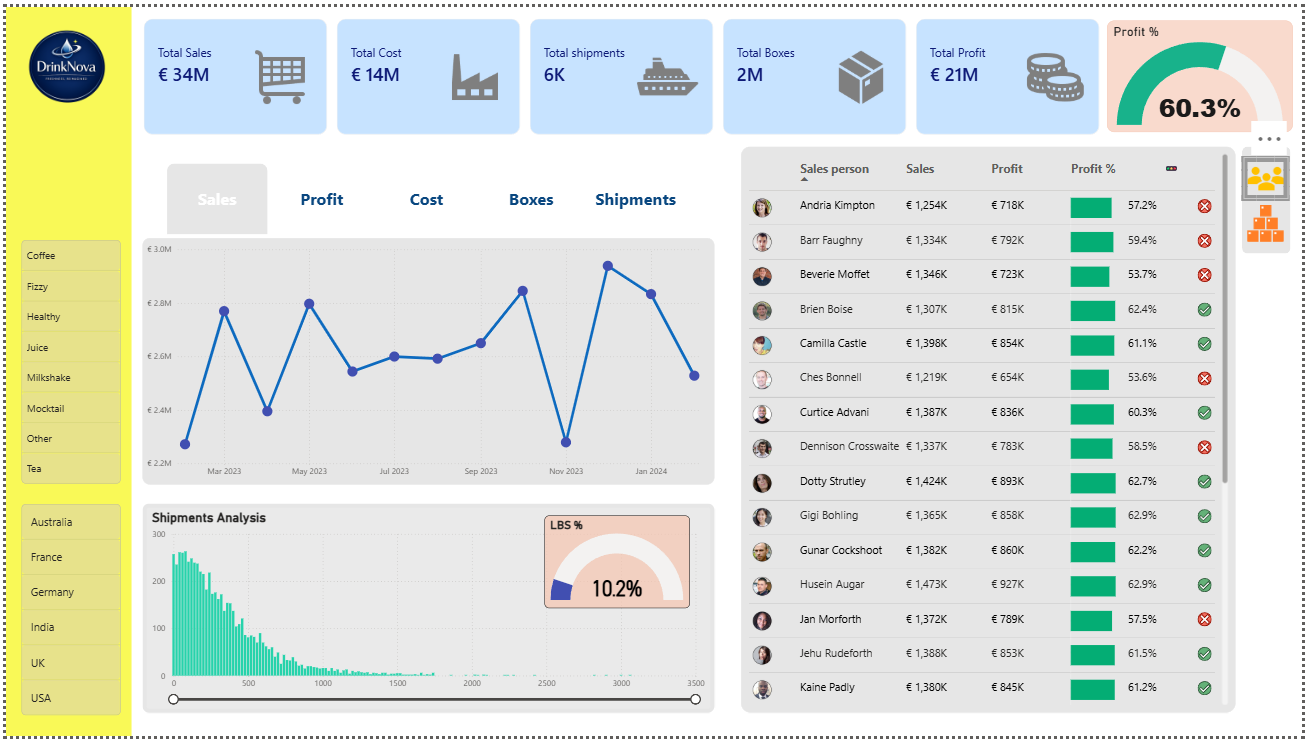

This screenshot's page, from the dashboard's own definition file:
{"tool":"powerbi","page":{"name":"Page 5","canvas":[1920,1080],"ordinal":1},"visuals":[{"type":"cardVisual","fields":{"Data":["Table.Total Sales","Table.Total Cost","Table.Total shipments","Table.Total Boxes","Table.Total Profit"]},"box":[186.2,0,1450,206.2],"z":1000},{"type":"shape","box":[0,0,186,1080],"z":1500},{"type":"gauge","fields":{"Y":["Table.Percetage Profit"]},"box":[1630,20,275,165],"z":2000},{"type":"image","box":[2.9,11.4,175.7,161.4],"z":3000},{"type":"lineChart","fields":{"Y":["Table.Total Sales"],"Category":["calendar.Start of Month"]},"box":[202.5,342.5,847.5,365],"z":4000},{"type":"advancedSlicerVisual","fields":{"Values":["Measure Selector.Measure Selector"]},"box":[232.5,227.5,780,115],"z":5000},{"type":"clusteredColumnChart","title":"Shipments Analysis","fields":{"Category":["shipments.Boxes (bins)"],"Y":["Table.Total shipments"]},"box":[202.5,735,847.5,310],"z":6000},{"type":"gauge","title":"LBS %","fields":{"Y":["Table.LBS Percentage"]},"box":[797.5,752.5,215,137.5],"z":7000},{"type":"tableEx","title":"people table","fields":{"Values":["people.Picture","people.Sales person","Table.Total Sales","Table.Total Profit","Table.Percetage Profit","Table.Profit Target Indicator"]},"box":[1088.6,207.1,732.9,838.6],"z":8000},{"type":"shape","box":[1830.6,206.9,71.9,158.8],"z":10500},{"type":"advancedSlicerVisual","fields":{"Values":["products.Category"]},"box":[18.6,340,157.1,375.7],"z":14000},{"type":"image","title":"people image","box":[1832.2,221.1,67.8,63.9],"z":14250},{"type":"advancedSlicerVisual","fields":{"Values":["locations.Geo"]},"box":[18.6,730,157.1,325.7],"z":14500},{"type":"image","title":"product image","box":[1835.6,292.5,60.6,54.4],"z":15000}]}

Visuals, with their boxes in screenshot pixels (x1, y1, x2, y2), scaled from the page's 1920x1080 canvas onto the 1312x745 screenshot:
cardVisual - Table.Total Sales x Table.Total Cost: rect(127, 0, 1118, 142)
shape: rect(0, 0, 127, 744)
gauge - Table.Percetage Profit: rect(1114, 14, 1302, 128)
image: rect(2, 8, 122, 119)
lineChart - Table.Total Sales x calendar.Start of Month: rect(138, 236, 718, 488)
advancedSlicerVisual - Measure Selector.Measure Selector: rect(159, 157, 692, 236)
"Shipments Analysis" clusteredColumnChart: rect(138, 507, 718, 721)
"LBS %" gauge: rect(545, 519, 692, 614)
"people table" tableEx: rect(744, 143, 1245, 721)
shape: rect(1251, 143, 1300, 252)
advancedSlicerVisual - products.Category: rect(13, 235, 120, 494)
"people image" image: rect(1252, 153, 1298, 197)
advancedSlicerVisual - locations.Geo: rect(13, 504, 120, 728)
"product image" image: rect(1254, 202, 1296, 239)
